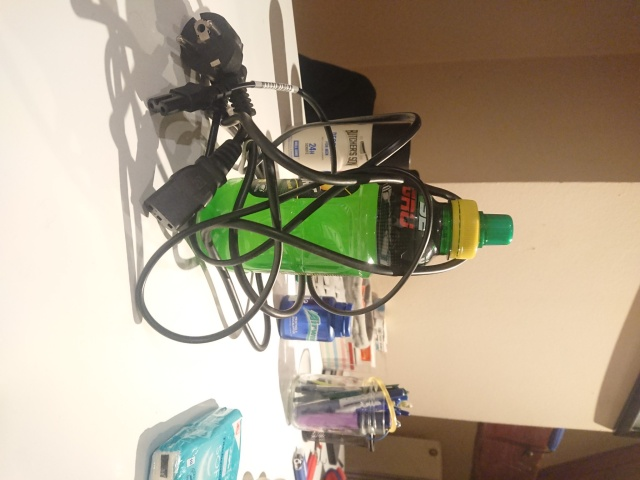Vindi Iso Sport Lemon-Grapefruit 500mL: (195, 175, 516, 280)
